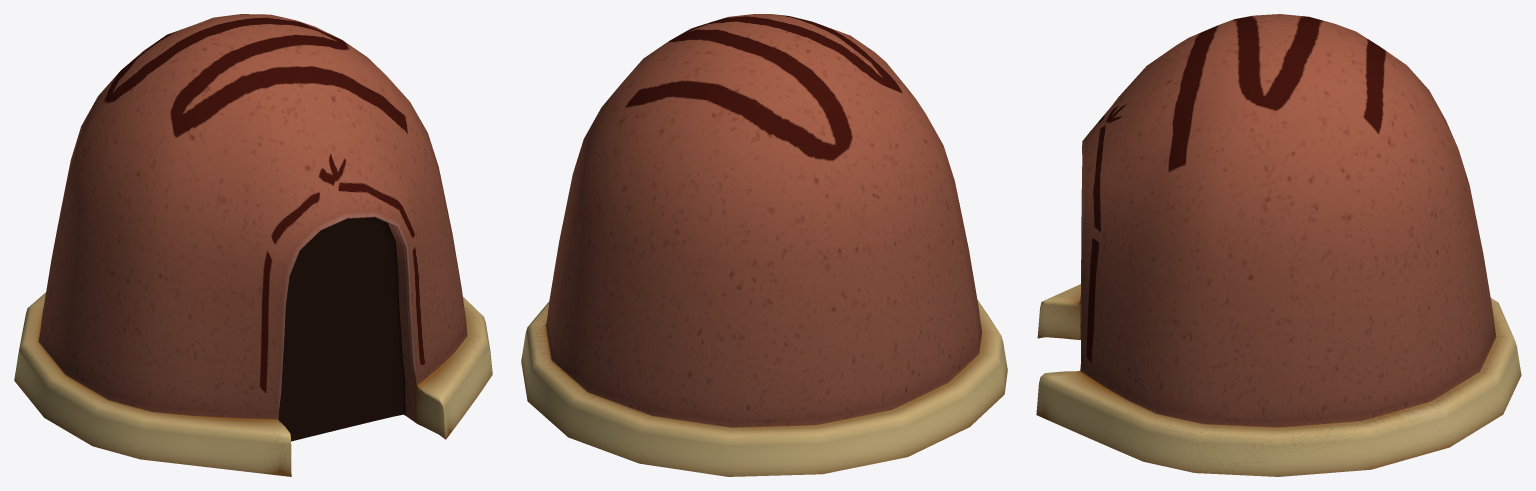
File: Mod_DomeChoco.gltf
3 views of the same model, side by side, from view 1: azimuth 30°, elevation 25°; view 2: azimuth 150°, elevation 25°; view 3: azimuth 270°, elevation 25° (orthographic).
Parts seen in each view (by area): view 1: DomeChoco; view 2: DomeChoco; view 3: DomeChoco.
Boxes of the visible parts, x1,y1,x2,y2 form: DomeChoco: (14,14,492,476); DomeChoco: (521,14,1007,476); DomeChoco: (1036,14,1521,476).
Size of the model in its own units: 6.88 by 5.44 by 6.9.
Materials: 1 (1 with a texture image).
